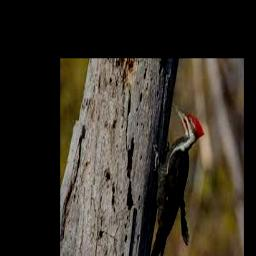Woodpecker: (146, 103, 204, 256)
